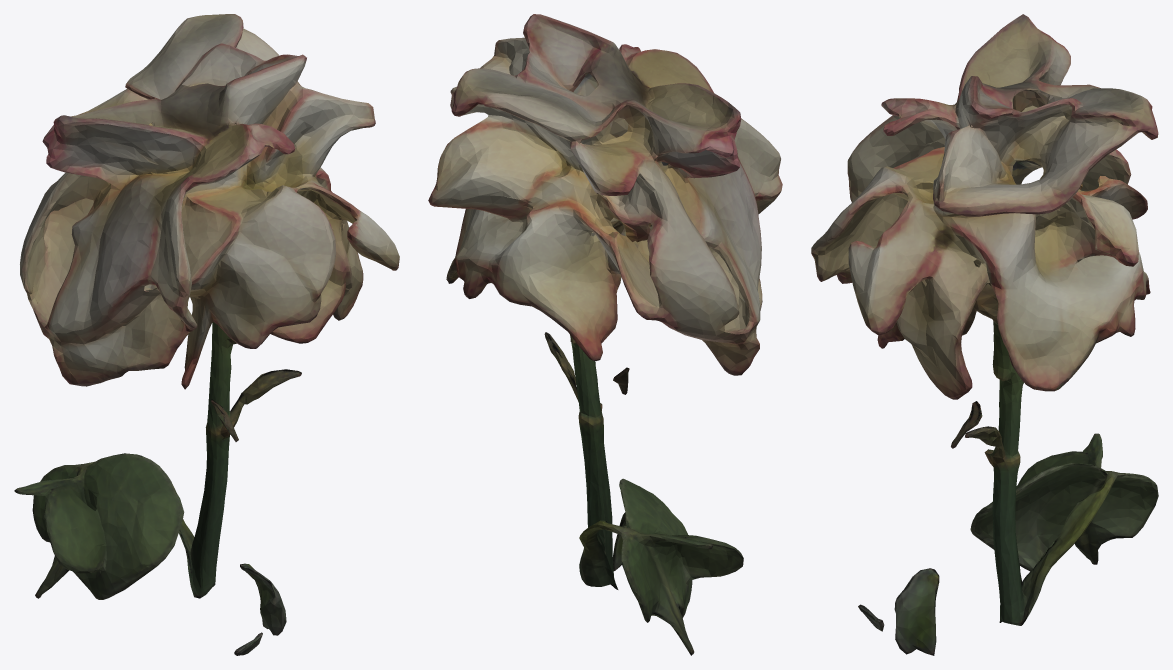
The picture shows the model from 3 angles, left to right: view 1: azimuth 30°, elevation 25°; view 2: azimuth 150°, elevation 25°; view 3: azimuth 270°, elevation 25°; orthographic projection. The views are drawn at different scales.
Visible parts, largest first — view 1: world; view 2: world; view 3: world.
Boxes of the visible parts, bbox=[...] form: world: bbox=[14, 14, 399, 655]; world: bbox=[428, 14, 782, 655]; world: bbox=[811, 14, 1158, 655].
Bounding box in the file's own units: 0.5613 × 0.9836 × 0.532.
Materials: 1 (1 with a texture image).
